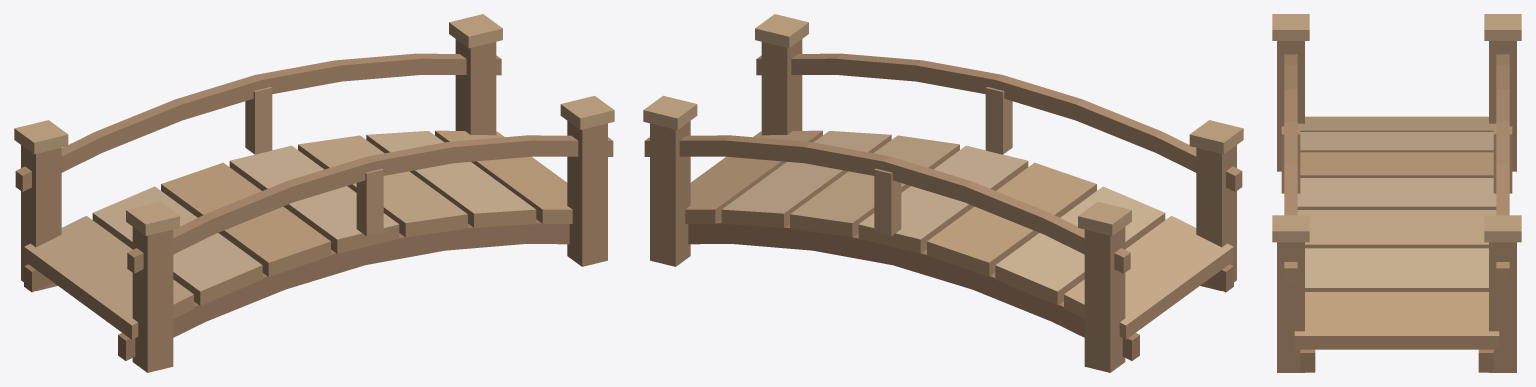
3 views of the same model, side by side, from view 1: azimuth 30°, elevation 25°; view 2: azimuth 150°, elevation 25°; view 3: azimuth 270°, elevation 25° (orthographic). The views are drawn at different scales.
Visible parts, largest first — view 1: world; view 2: world; view 3: world.
Boxes of the visible parts, x1=… form: world: x1=14, y1=14, x2=614, y2=372; world: x1=643, y1=14, x2=1243, y2=372; world: x1=1272, y1=14, x2=1521, y2=372.
Size of the model in its own units: 5.6 by 1.7 by 2.66.
